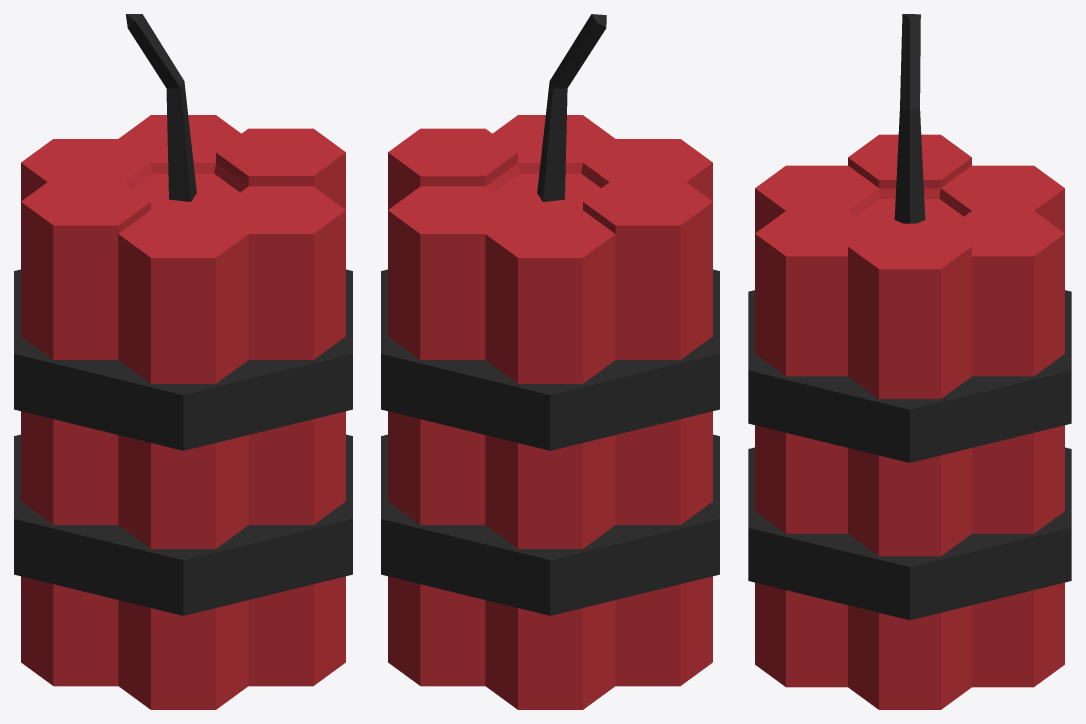
File: weapons_dynamite-pack.fbx
3 views of the same model, side by side, from view 1: azimuth 30°, elevation 25°; view 2: azimuth 150°, elevation 25°; view 3: azimuth 270°, elevation 25° (orthographic). The views are drawn at different scales.
Visible parts, largest first — view 1: weapons_dynamite_pack; view 2: weapons_dynamite_pack; view 3: weapons_dynamite_pack.
Part boxes in pixels (x1,y1,x2,y2): weapons_dynamite_pack: (14, 14, 352, 709); weapons_dynamite_pack: (381, 14, 719, 709); weapons_dynamite_pack: (748, 14, 1071, 709).
Size of the model in its own units: 111 by 200 by 96.05.
